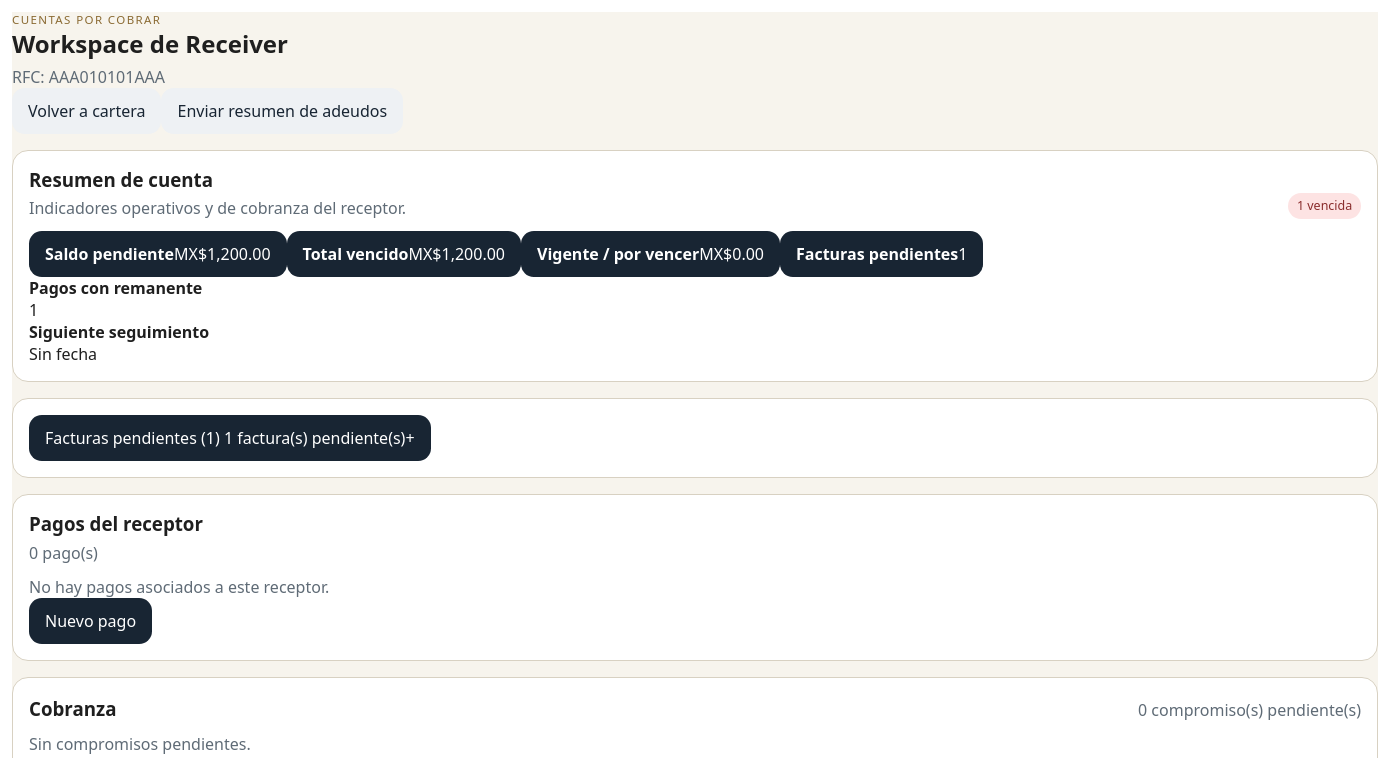
Test case: AccountsReceivablePageComponent › shows the empty state for the current or due soon filter when nothing matches
Click the button with class "summary-card-action" showing "Vigente / por vencer MX$0.00" at coordinates (650, 254), box x1=521 y1=231 x2=780 y2=277
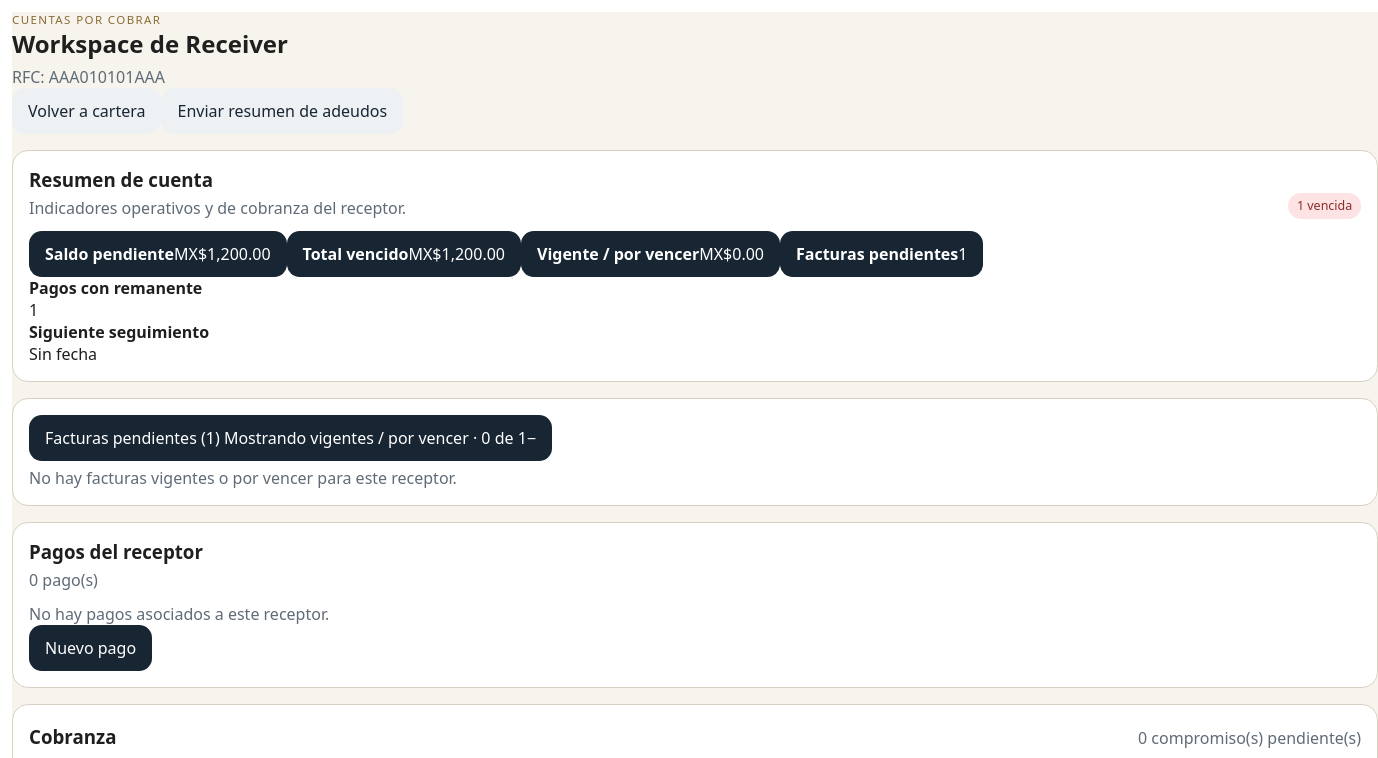
expect the text "No hay facturas vigentes o por vencer para este receptor." is shown: met, box x1=29 y1=467 x2=457 y2=489
